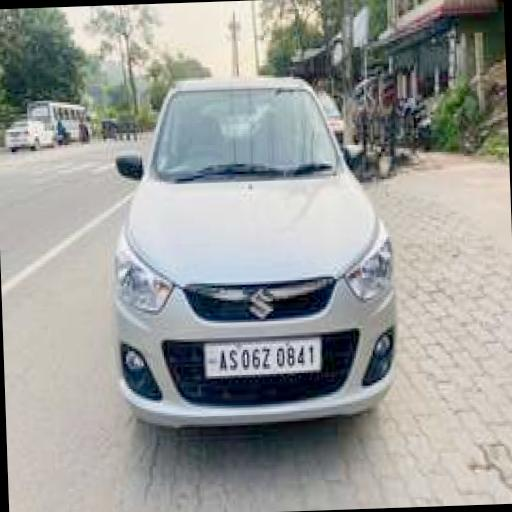license_plate`: (200, 334, 318, 374)
